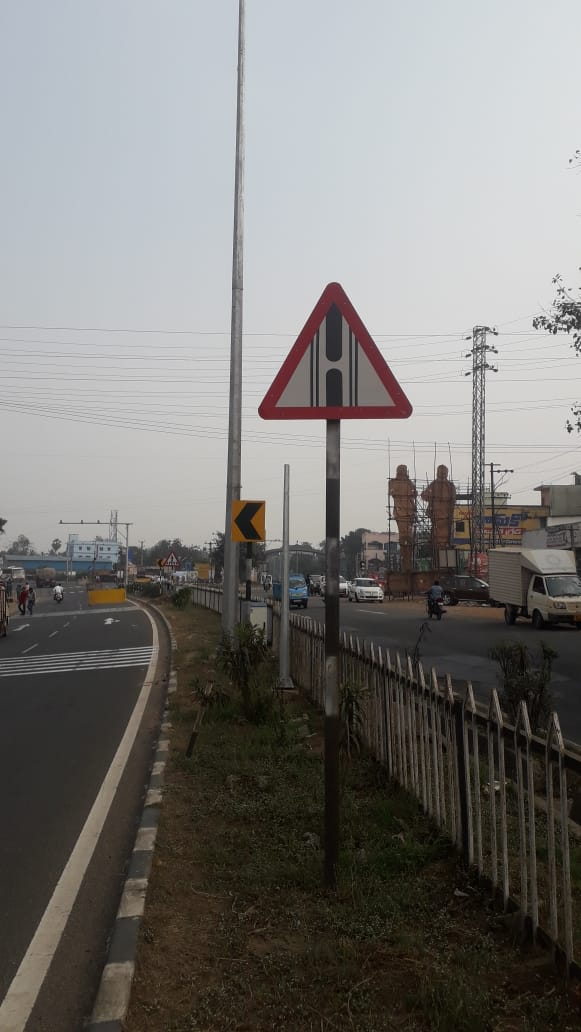highway go straight: (247, 268, 421, 438)
